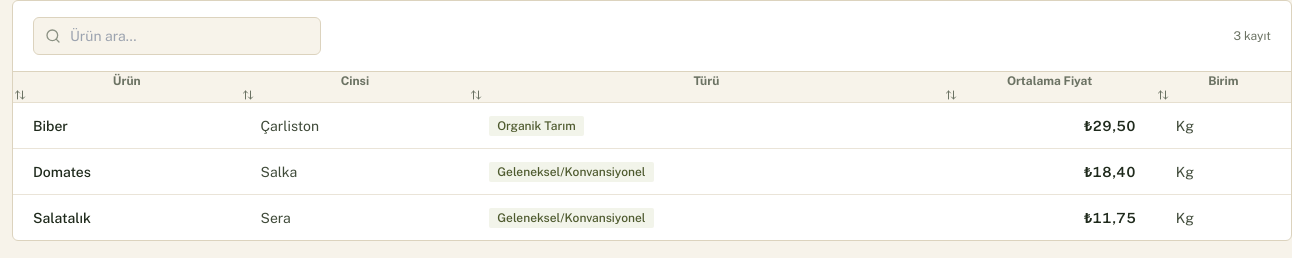
Test case: PriceTable › filters rows by product name as user types
The width and height of the screenshot is (1292, 258).
Type "biber" into the field with placeholder "Ürün ara…" at {"x": 177, "y": 36}, box [33,17,321,55]
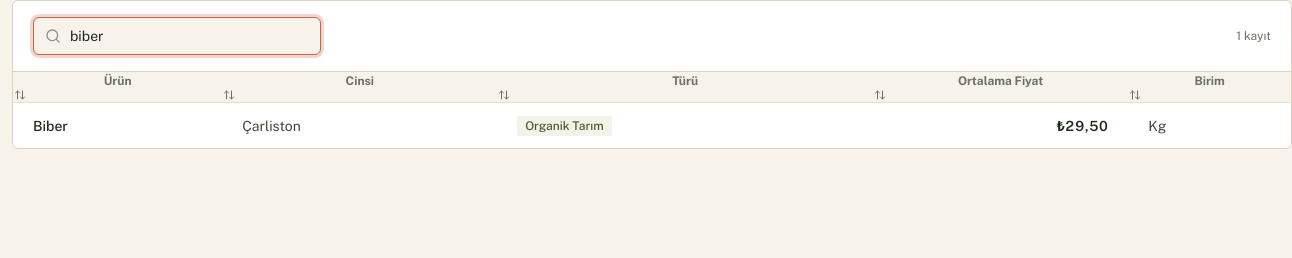
Expected: the link "Biber" is shown, [33,118,68,134]
Result: the link "Domates" is gone
Result: the text "1 kayıt" is shown at [1236,28,1271,44]
